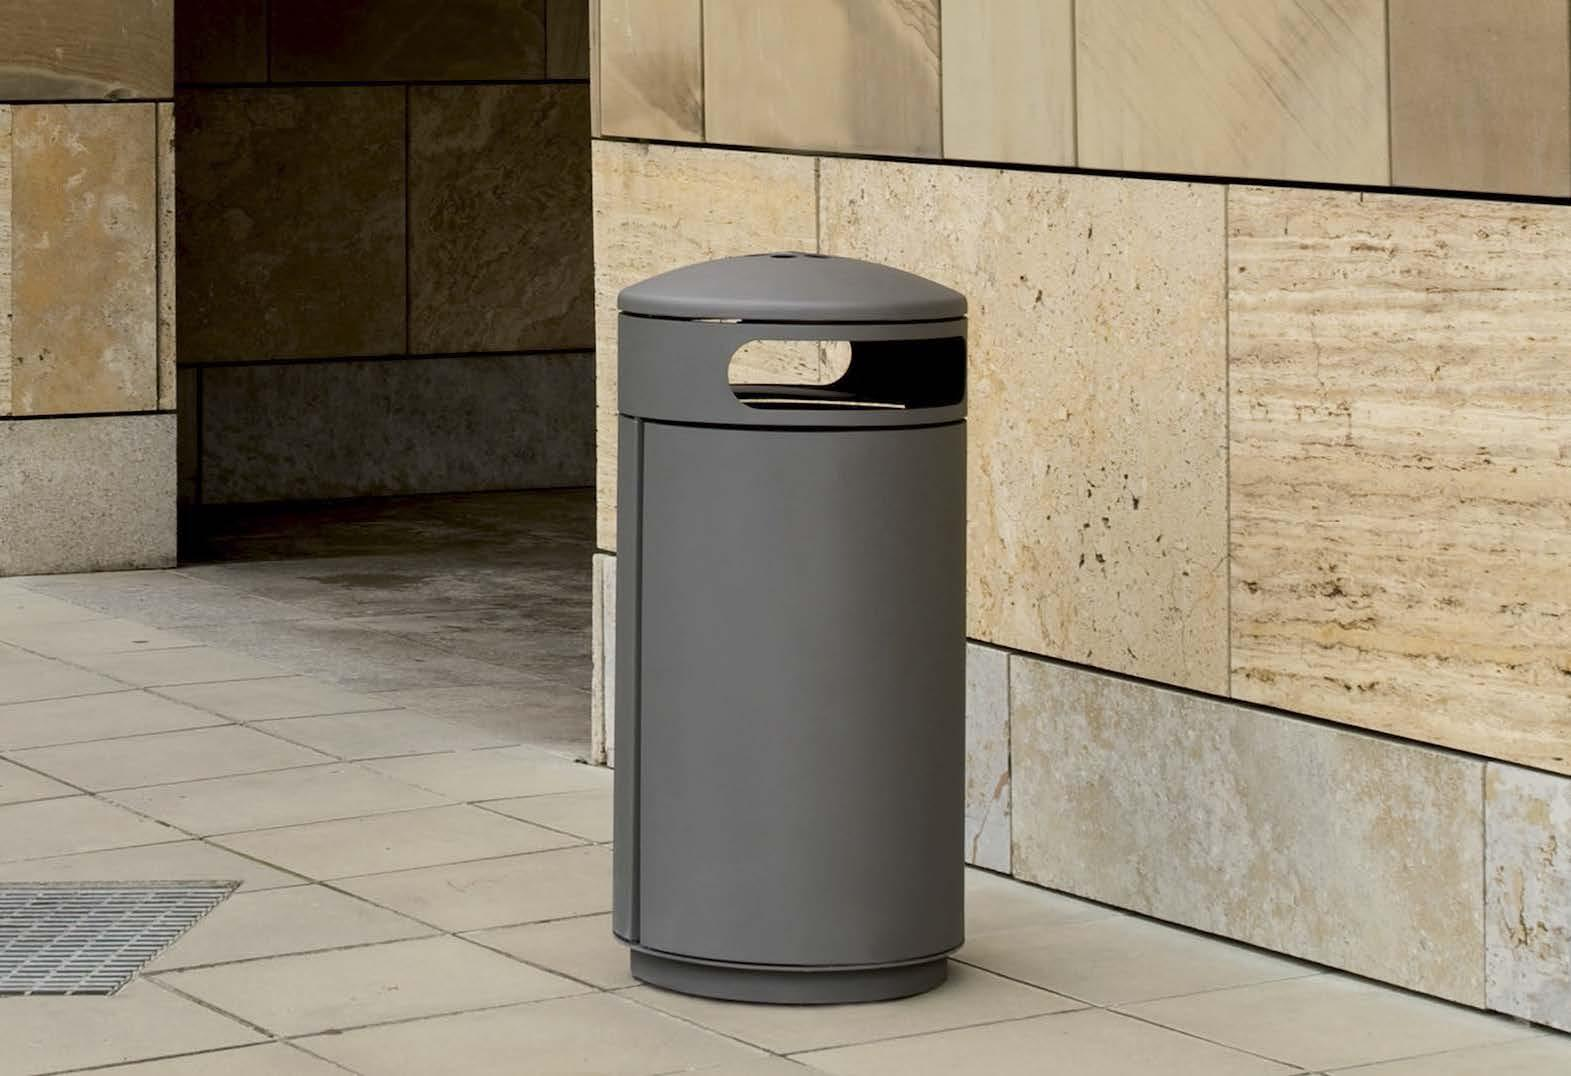trash bin: (591, 245, 1010, 1012)
